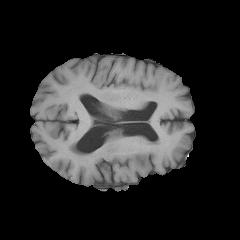glioma: (74, 126, 167, 174)
